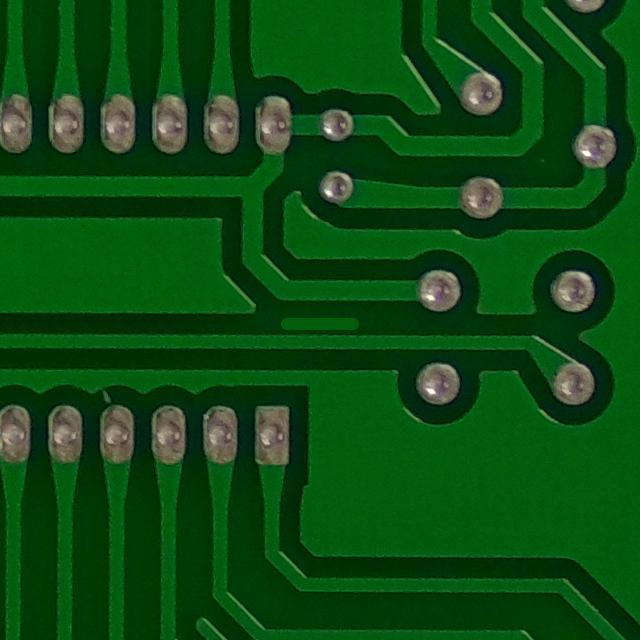spurious_copper: (269, 295, 371, 346)
